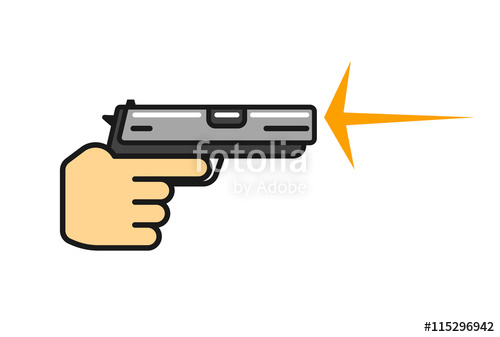pistol: (54, 84, 323, 263)
